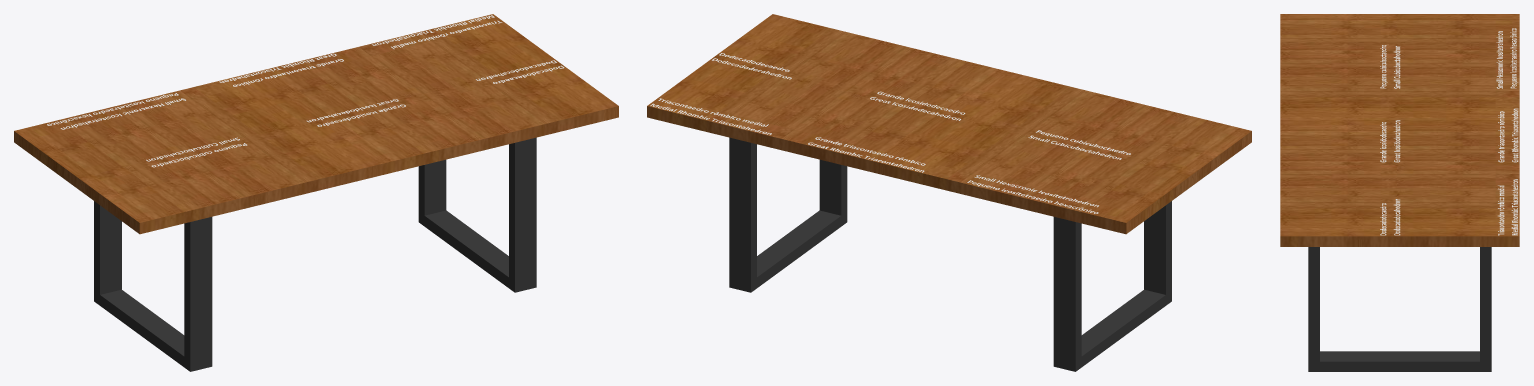
Rendered from mesa_selfIntersect1.glb.
3 renders of one model, left to right at view 1: azimuth 30°, elevation 25°; view 2: azimuth 150°, elevation 25°; view 3: azimuth 270°, elevation 25°, orthographic. The views are drawn at different scales.
Parts seen in each view (by area): view 1: object 1, Composant#1 (×2), Small Hexacronic, Triacontaedro rô, Grande triaconta; view 2: object 1, Composant#1 (×2), Small Hexacronic, Triacontaedro rô, Grande triaconta; view 3: object 1, Composant#1, Small Hexacronic, Triacontaedro rô, Grande triaconta, Pequeno cubicubo, Grande icosidode, Dodecadodecaedro.
Part boxes in pixels (x1,y1,x2,y2): object 1: (14,14,618,234); Composant#1 (×2): (94,137,536,371); Small Hexacronic: (47,93,185,129); Triacontaedro rô: (372,15,502,49); Grande triaconta: (219,53,343,86); object 1: (647,14,1251,234); Composant#1 (×2): (729,137,1171,371); Small Hexacronic: (967,175,1098,213); Triacontaedro rô: (650,98,771,134); Grande triaconta: (808,137,925,172); object 1: (1280,14,1519,246); Composant#1: (1308,247,1491,371); Small Hexacronic: (1496,28,1517,88); Triacontaedro rô: (1498,179,1517,235); Grande triaconta: (1498,108,1518,162); Pequeno cubicubo: (1380,45,1400,88); Grande icosidode: (1380,120,1400,162); Dodecadodecaedro: (1380,199,1400,235).
Size of the model in its own units: 2.2 by 0.771 by 1.
Materials: 3 (1 with a texture image).
